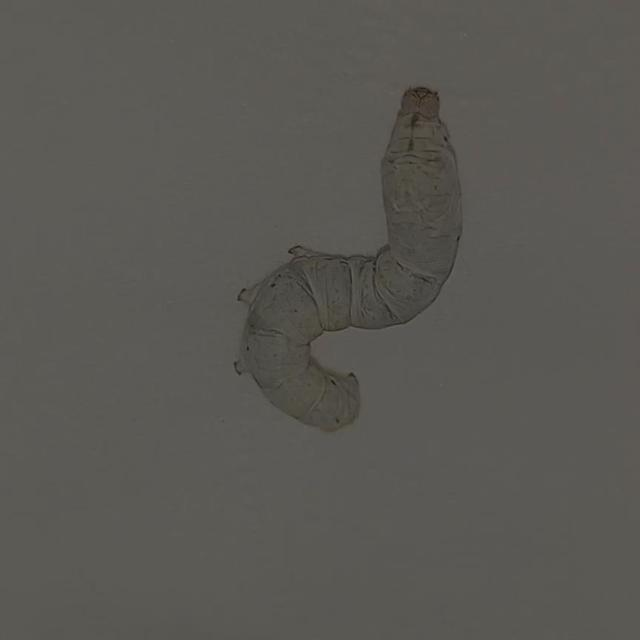Healthy: (200, 61, 536, 469)
